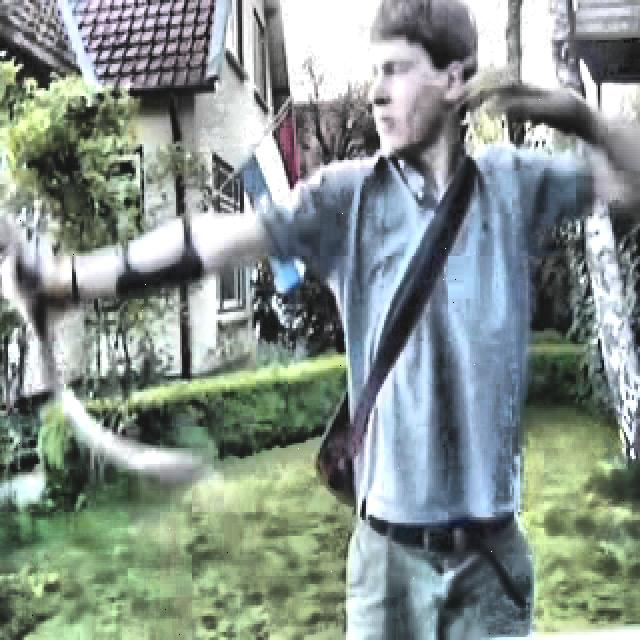P: (1, 7, 543, 636)
